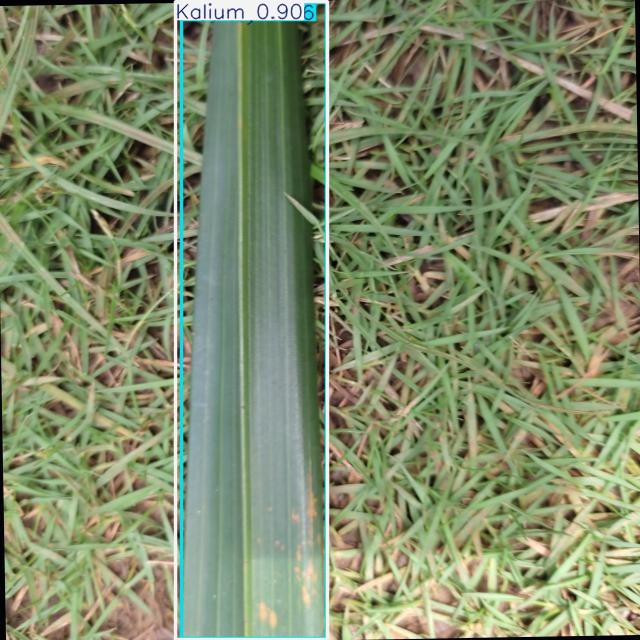Healthy: (182, 2, 326, 638)
Kalium: (176, 2, 328, 639)
